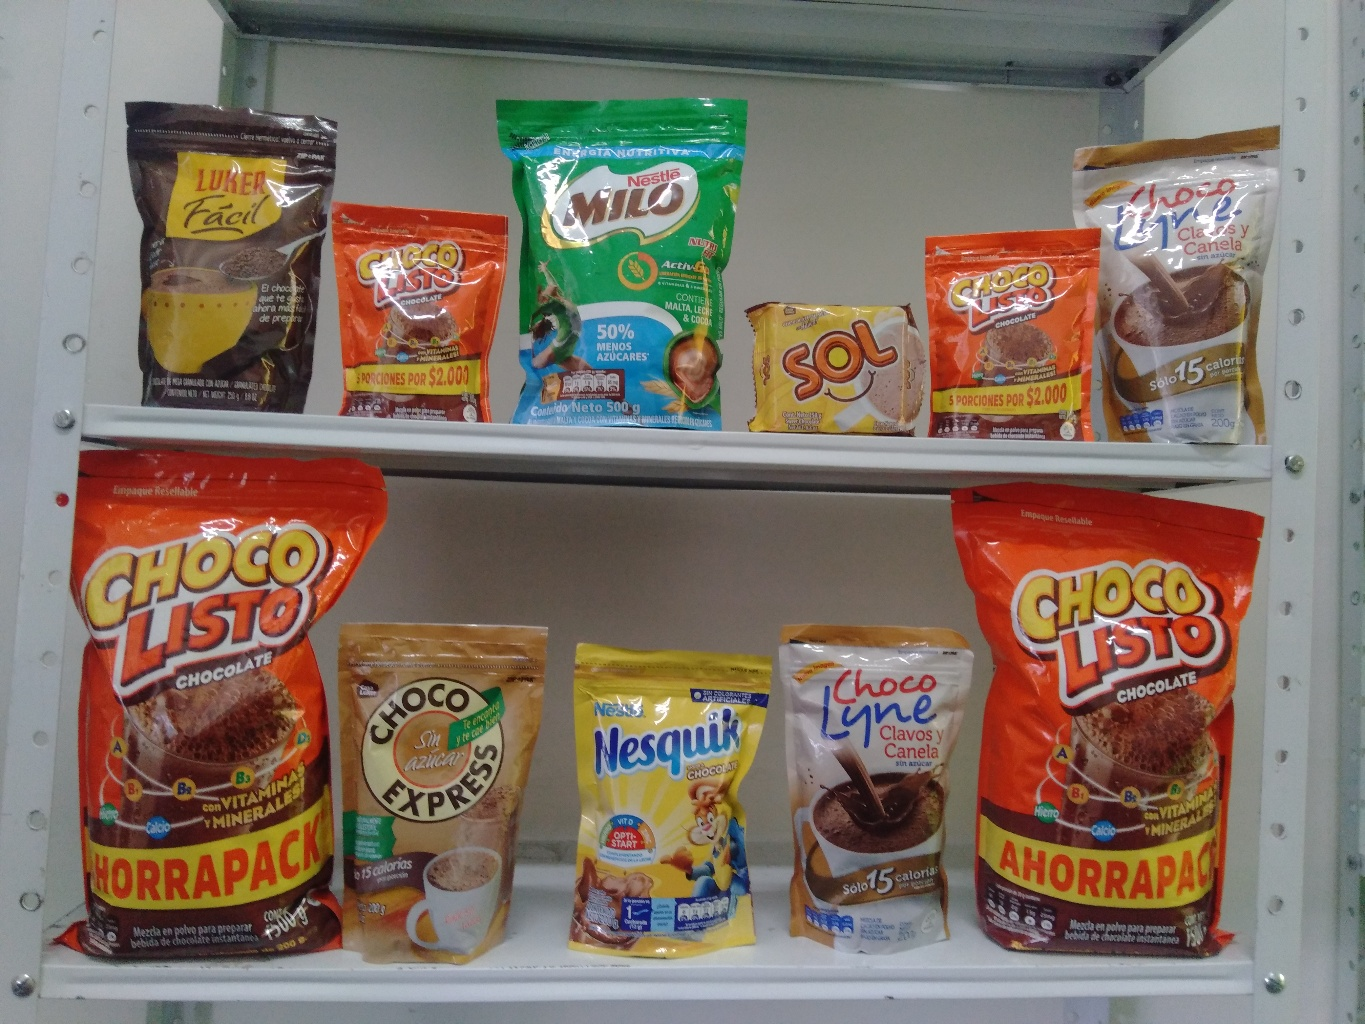COL0170303DYP20000: (558, 642, 783, 954)
